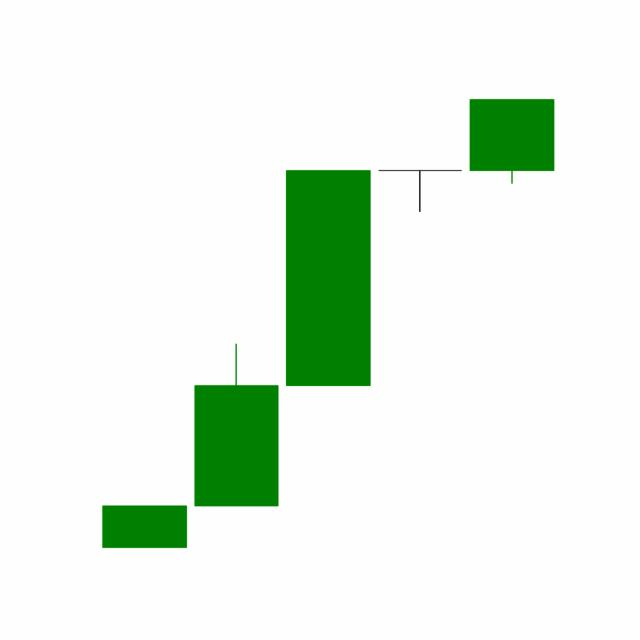Hanging Man: (373, 169, 467, 212)
